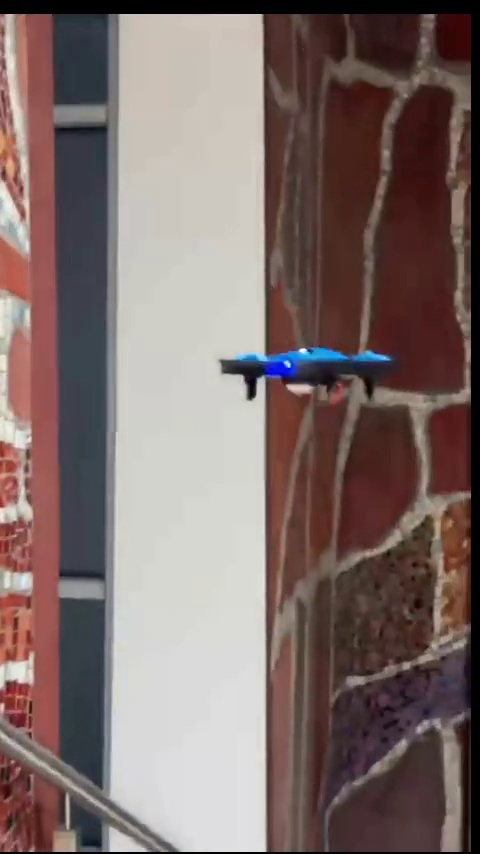drone: (222, 345, 397, 405)
